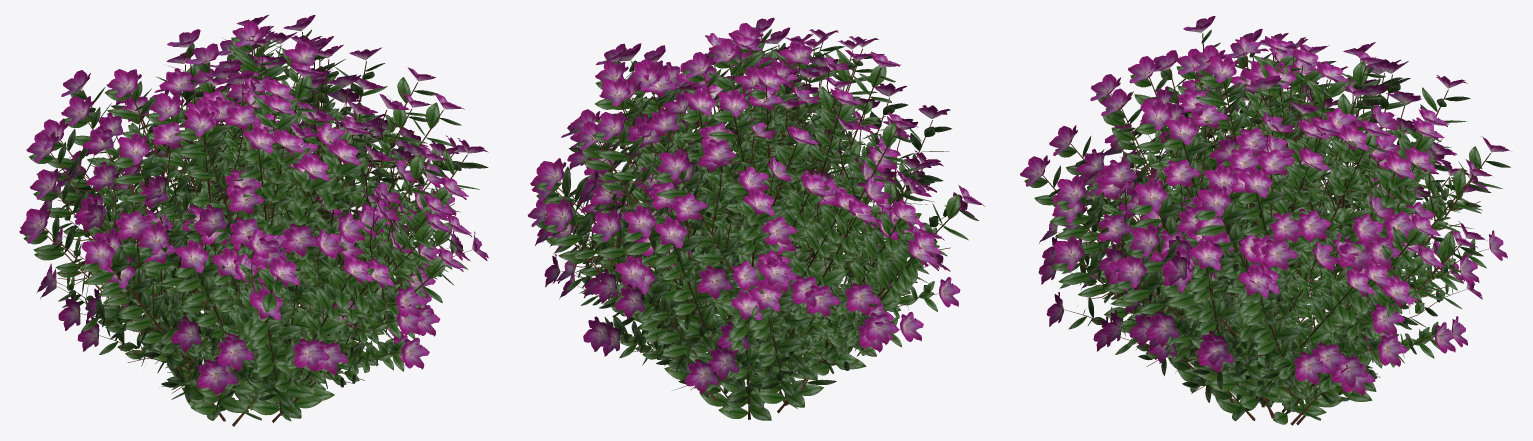
The model's file is bush.gltf.
The picture shows the model from 3 angles, left to right: view 1: azimuth 30°, elevation 25°; view 2: azimuth 150°, elevation 25°; view 3: azimuth 270°, elevation 25°; orthographic projection. The views are drawn at different scales.
Visible parts, largest first — view 1: Bush; view 2: Bush; view 3: Bush.
Boxes of the visible parts, box(x1,y1,x2,y2) form: Bush: box(19, 14, 488, 426); Bush: box(528, 17, 984, 420); Bush: box(1020, 16, 1511, 425).
Bounding box in the file's own units: 48.06 × 42.68 × 50.01.
1 material, 1 textured.
